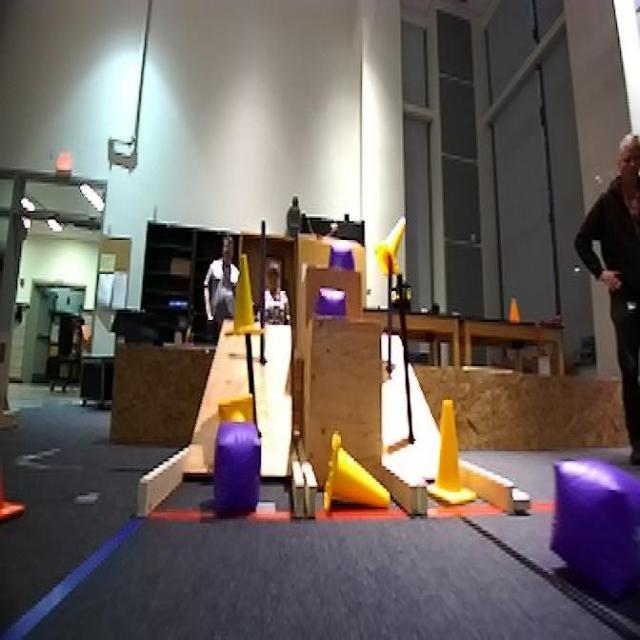frc_cone: (323, 432, 392, 508), (431, 397, 476, 512), (230, 268, 262, 340), (374, 223, 403, 279), (214, 403, 259, 434)
frc_cube: (558, 454, 640, 601), (211, 431, 263, 514), (318, 289, 348, 322), (332, 240, 354, 267)
